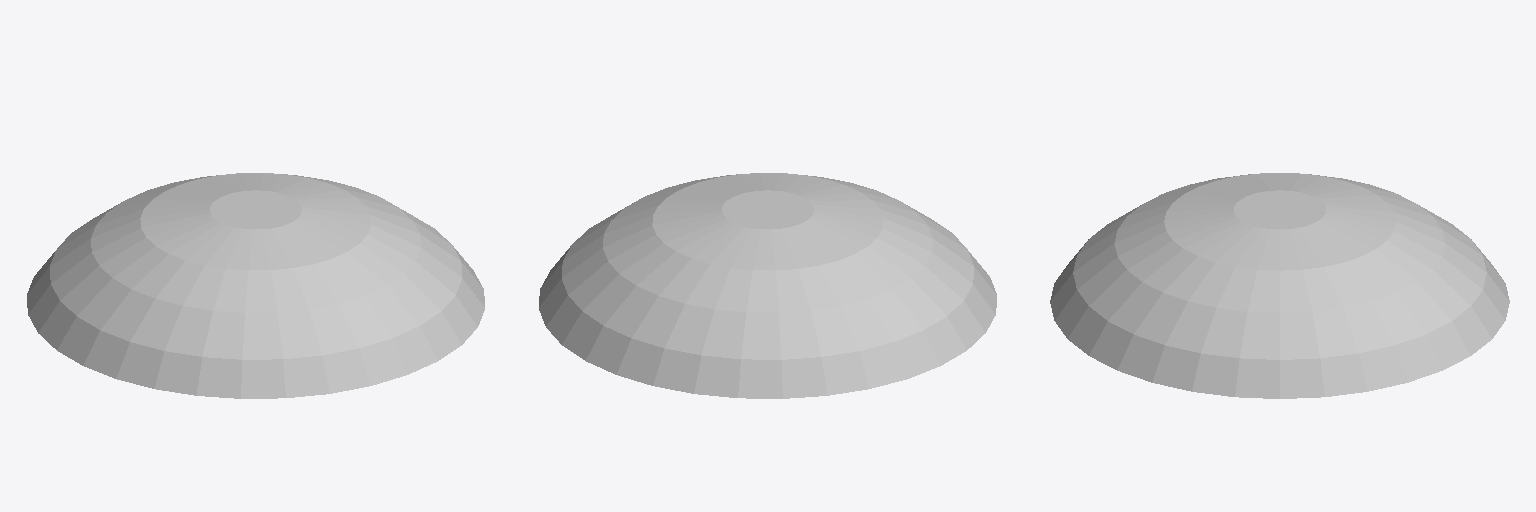
The model's file is meja4-5.obj.
3 renders of one model, left to right at view 1: azimuth 30°, elevation 25°; view 2: azimuth 150°, elevation 25°; view 3: azimuth 270°, elevation 25°, orthographic.
Visible parts, largest first — view 1: Cube.077_Cube.352_Cube.077_Cube.001; view 2: Cube.077_Cube.352_Cube.077_Cube.001; view 3: Cube.077_Cube.352_Cube.077_Cube.001.
Boxes of the visible parts, x1=… form: Cube.077_Cube.352_Cube.077_Cube.001: x1=27, y1=173, x2=484, y2=398; Cube.077_Cube.352_Cube.077_Cube.001: x1=539, y1=173, x2=996, y2=398; Cube.077_Cube.352_Cube.077_Cube.001: x1=1050, y1=173, x2=1509, y2=398.
Size of the model in its own units: 0.7724 by 0.1706 by 0.7724.